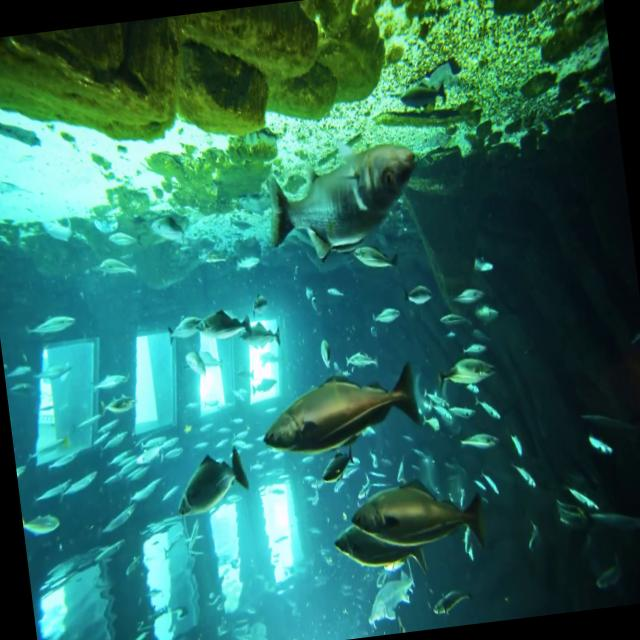fish: (251, 142, 426, 267), (256, 356, 425, 458), (346, 477, 491, 567), (168, 452, 252, 522), (170, 305, 284, 350), (335, 528, 419, 576)
